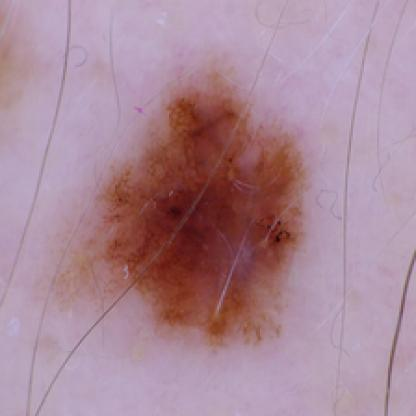Skin_Cancer-Malignant: (99, 80, 310, 343)
